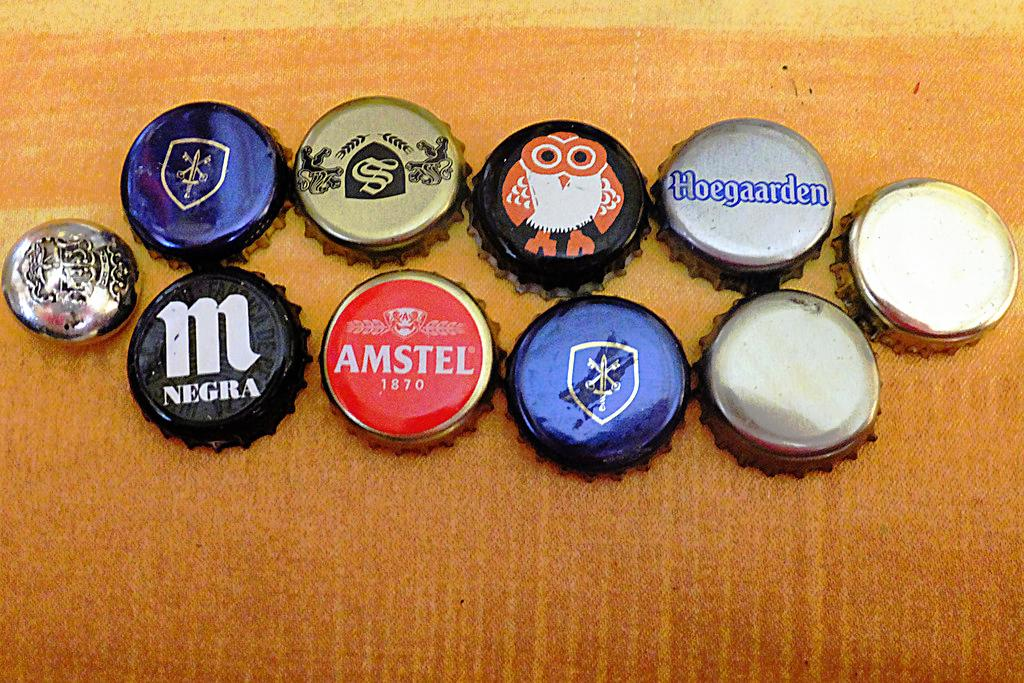Owl: (502, 130, 626, 262)
